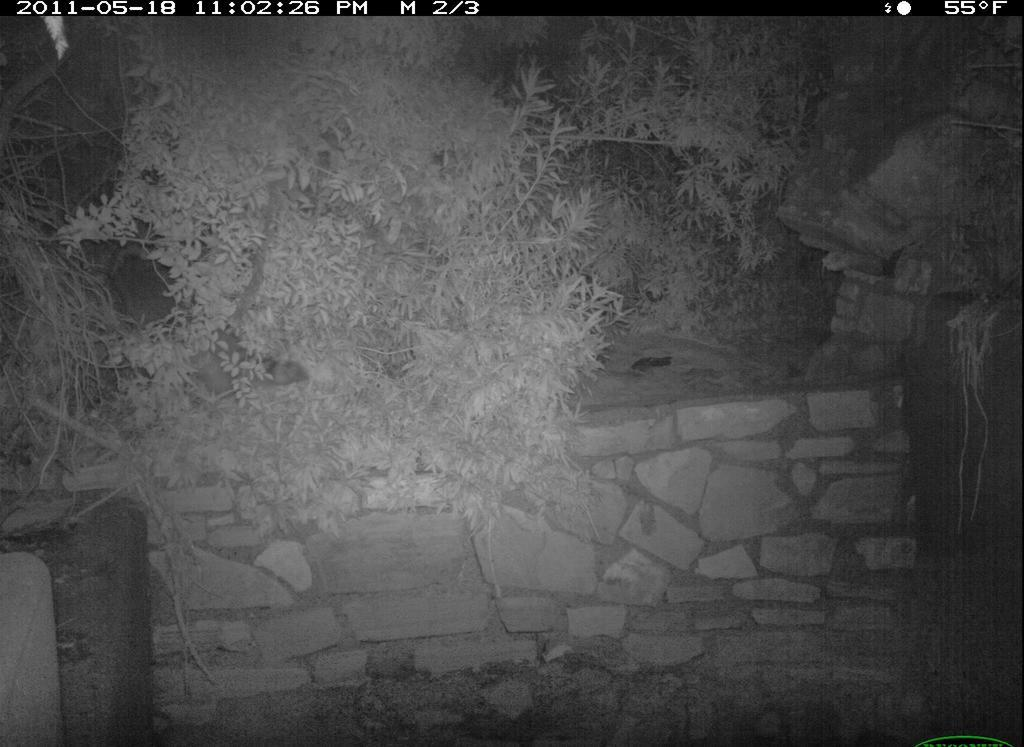raccoon: (166, 322, 316, 411), (98, 243, 196, 340)
